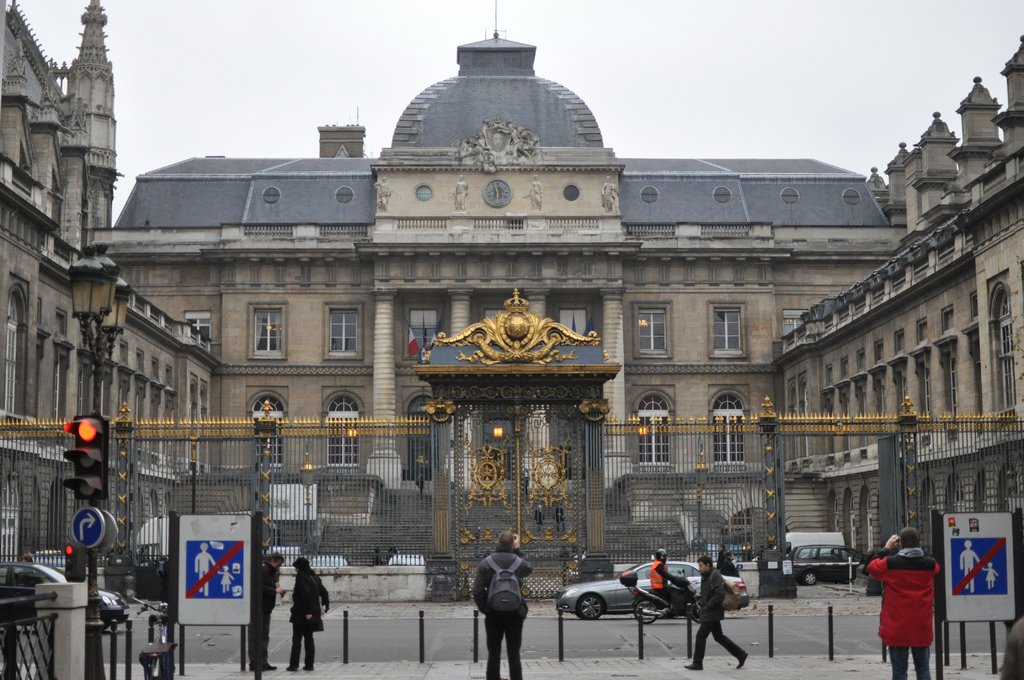cars: (555, 556, 746, 615), (789, 535, 856, 589)
